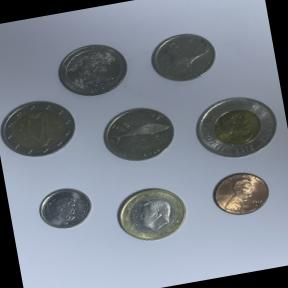coin: (184, 84, 286, 172), (92, 97, 184, 176), (108, 176, 197, 248), (0, 92, 82, 167), (50, 36, 135, 104), (204, 164, 278, 224), (32, 180, 98, 235)
